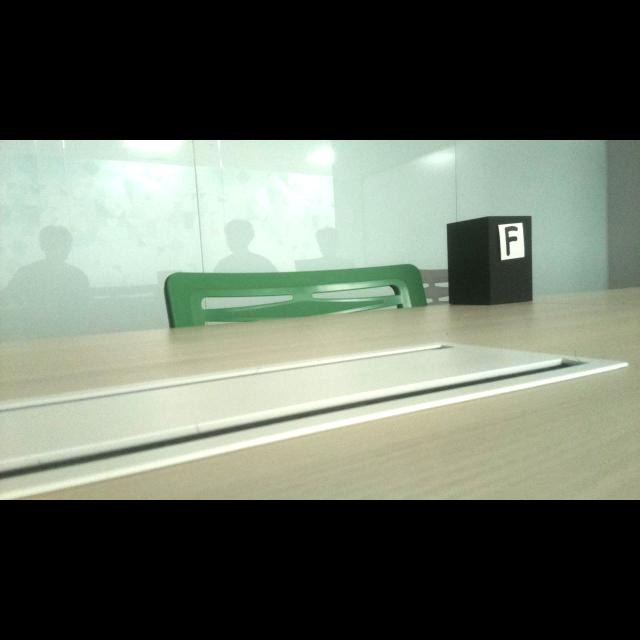F: (505, 226, 518, 256)
